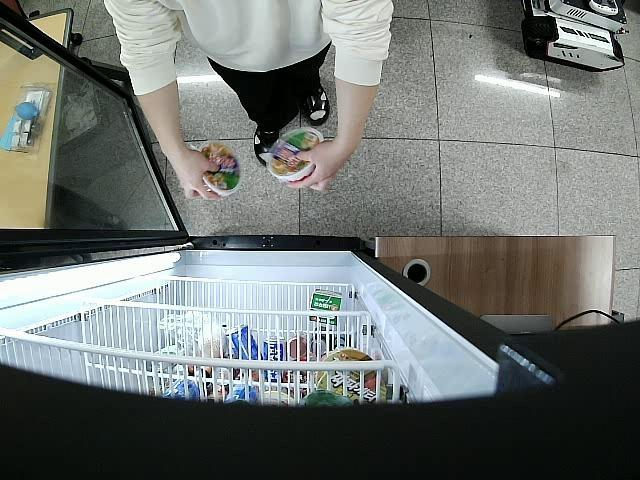09_yukGaeJang: (268, 126, 326, 184), (197, 142, 244, 198)
